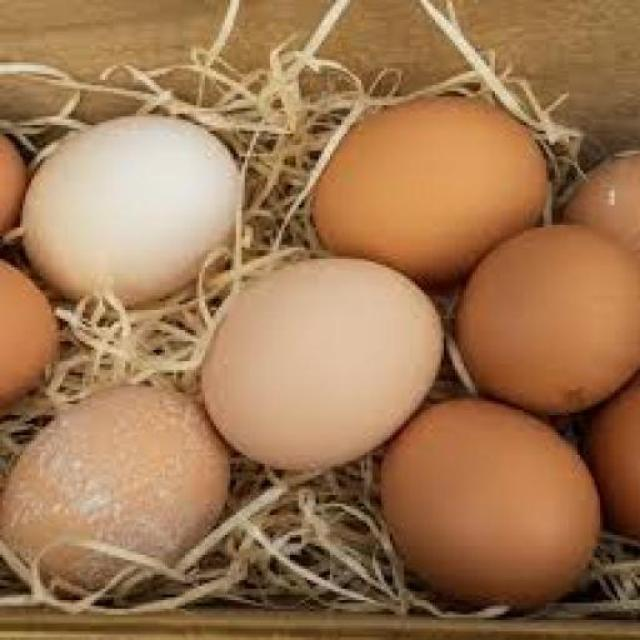telur: (202, 258, 439, 471), (0, 382, 229, 595), (380, 399, 595, 608), (312, 98, 543, 288), (22, 115, 239, 307), (455, 226, 638, 415), (567, 152, 639, 265)
